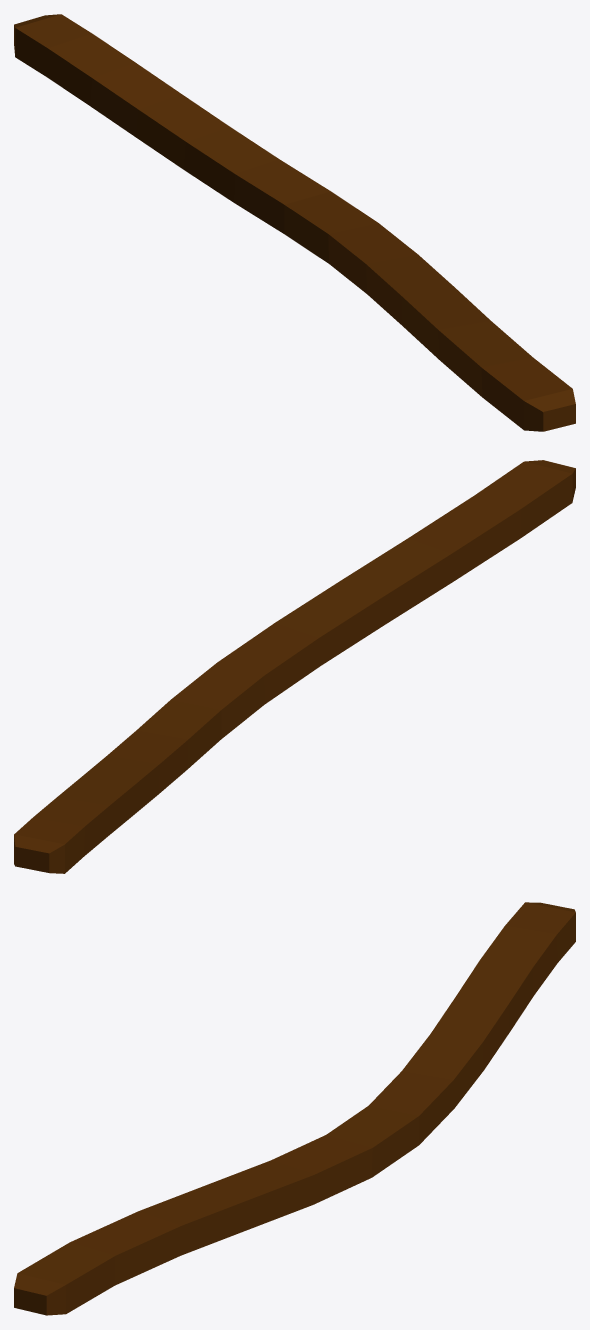
File: stick LOD1.fbx
The picture shows the model from 3 angles, top to bottom: view 1: azimuth 30°, elevation 25°; view 2: azimuth 150°, elevation 25°; view 3: azimuth 330°, elevation 25°; orthographic projection.
Parts seen in each view (by area): view 1: Палка LOD1; view 2: Палка LOD1; view 3: Палка LOD1.
Boxes of the visible parts, x1=… form: Палка LOD1: x1=14, y1=14, x2=575, y2=431; Палка LOD1: x1=14, y1=460, x2=575, y2=873; Палка LOD1: x1=14, y1=902, x2=575, y2=1315.
Size of the model in its own units: 101 by 58.5 by 875.
